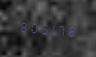eight: (17, 17, 26, 35), (68, 21, 77, 39)
five: (38, 19, 47, 36)
one: (48, 20, 57, 37)
seven: (58, 20, 67, 38)
zero: (27, 18, 36, 36)
